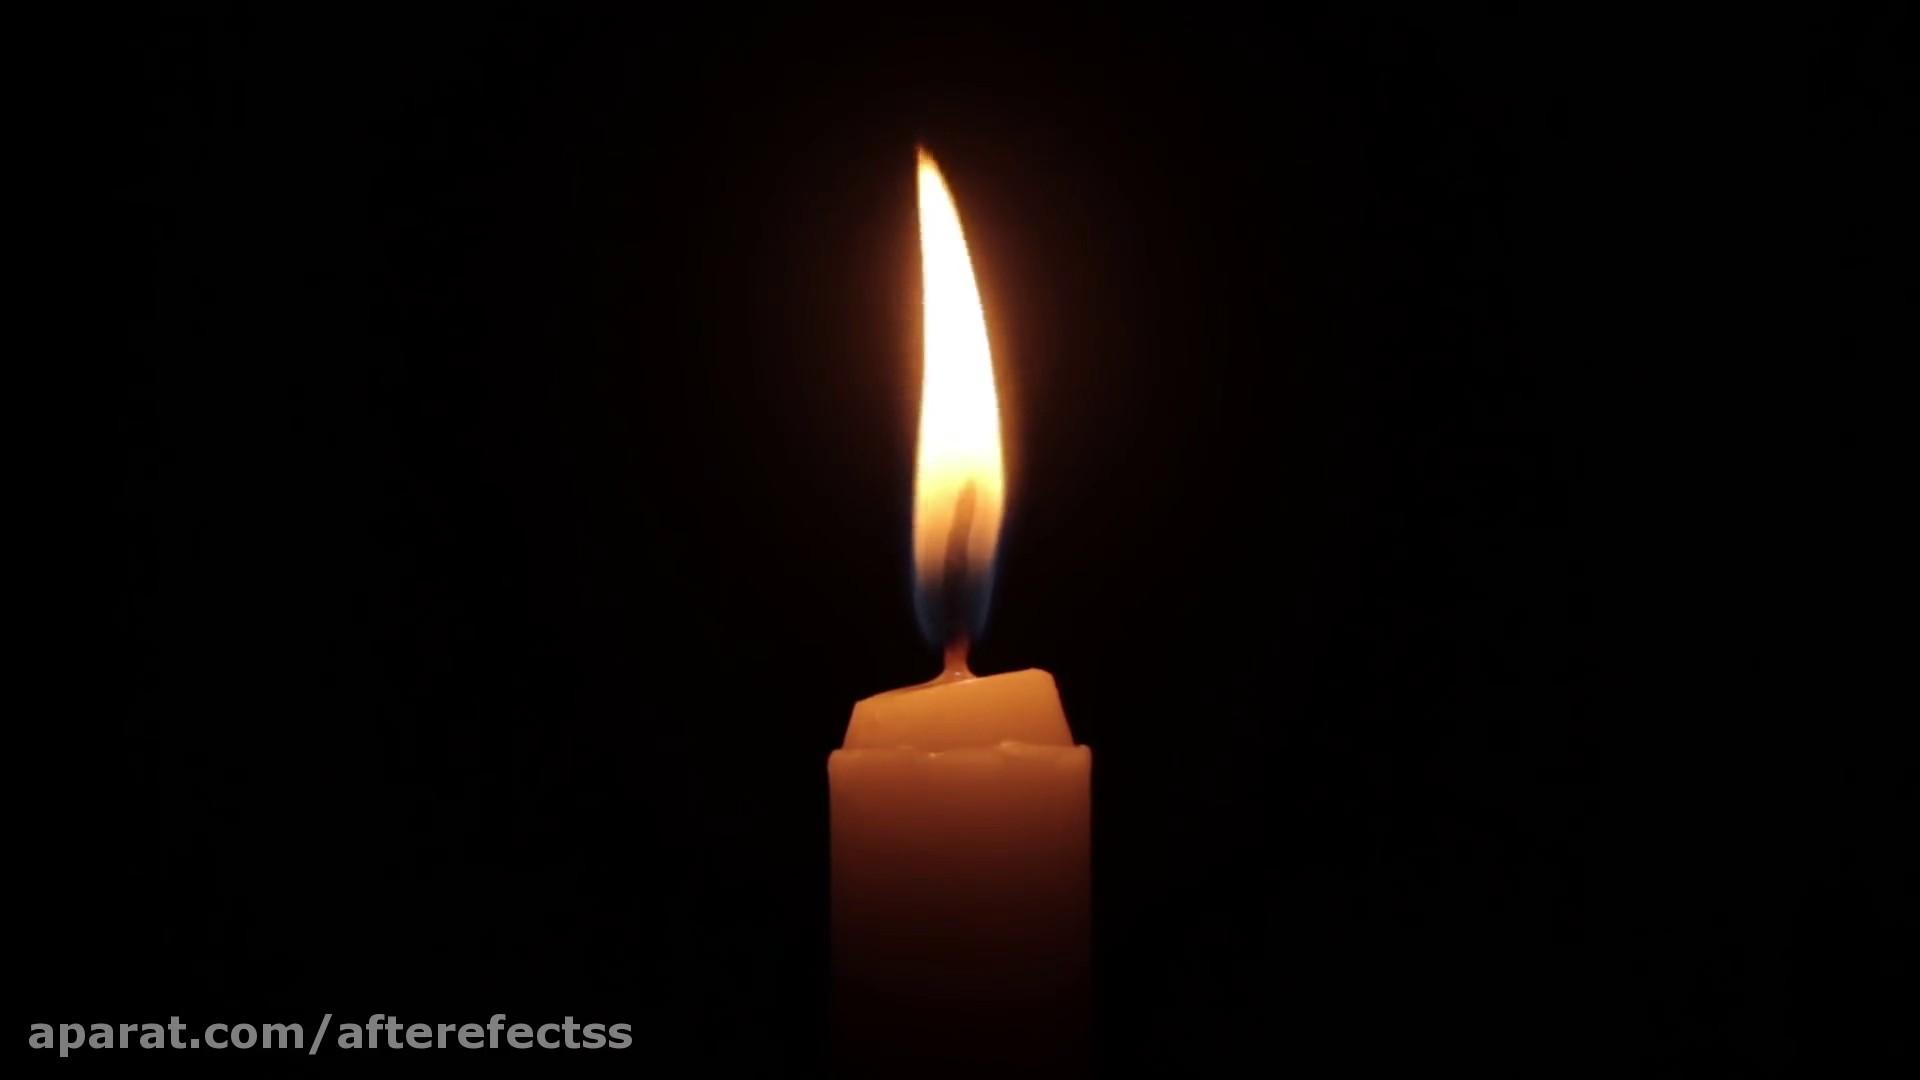fire: (890, 80, 1022, 624)
